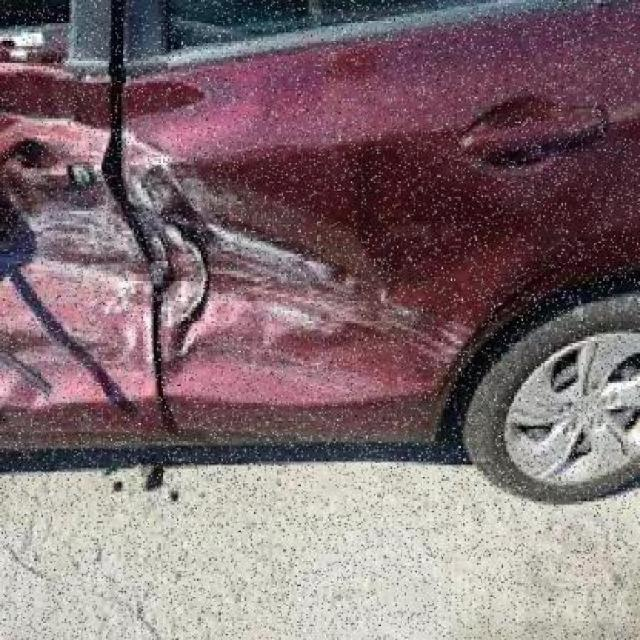doorouter-dent: (151, 57, 611, 440), (3, 60, 149, 433)
